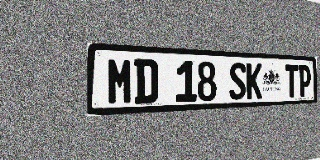1: (176, 60, 197, 102)
8: (197, 61, 216, 101)
D: (134, 59, 158, 104)
K: (246, 63, 262, 99)
M: (107, 57, 133, 105)
P: (299, 65, 311, 97)
S: (229, 62, 246, 100)
T: (285, 64, 298, 98)
